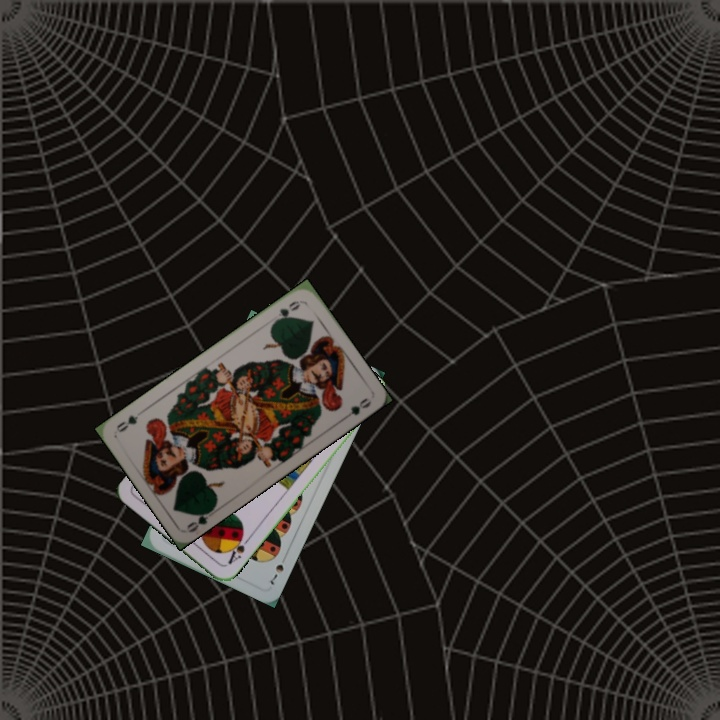GO: (182, 503, 217, 535), (270, 296, 304, 326)
S7: (266, 551, 290, 588)
SA: (224, 530, 252, 567)
